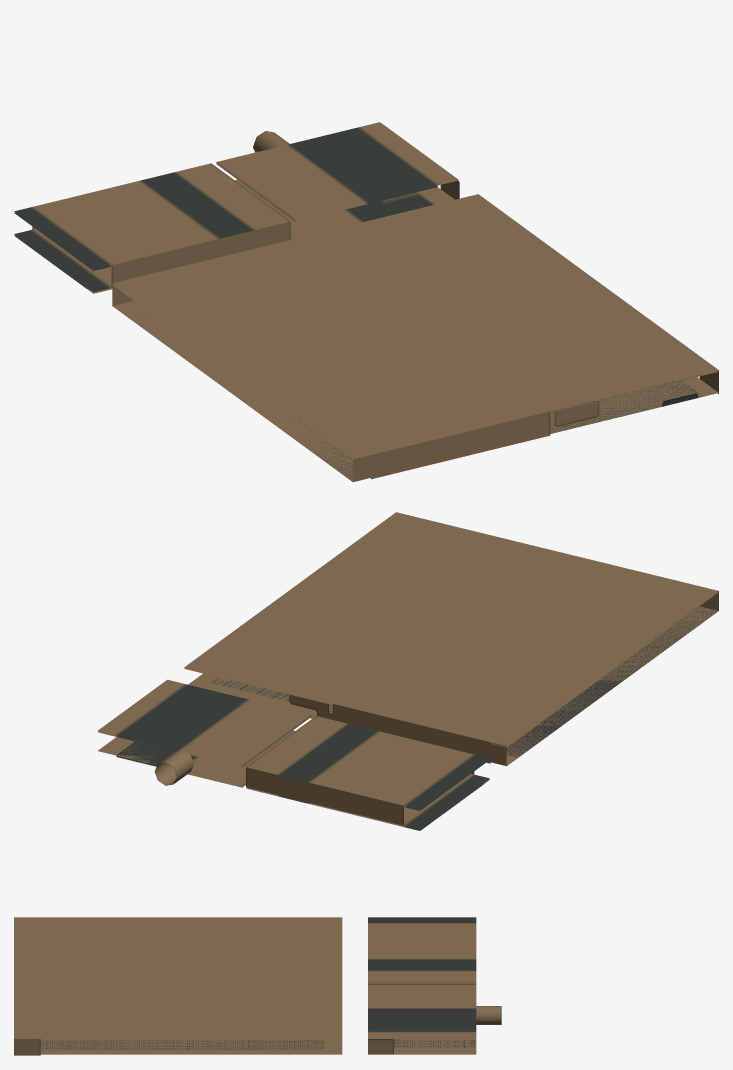
Rendered from section-5.obj.
The picture shows the model from 3 angles, top to bottom: view 1: azimuth 30°, elevation 25°; view 2: azimuth 150°, elevation 25°; view 3: azimuth 270°, elevation 25°; orthographic projection. The views are drawn at different scales.
Bounding box in the file's own units: 1.01 × 0.07 × 2.47.
